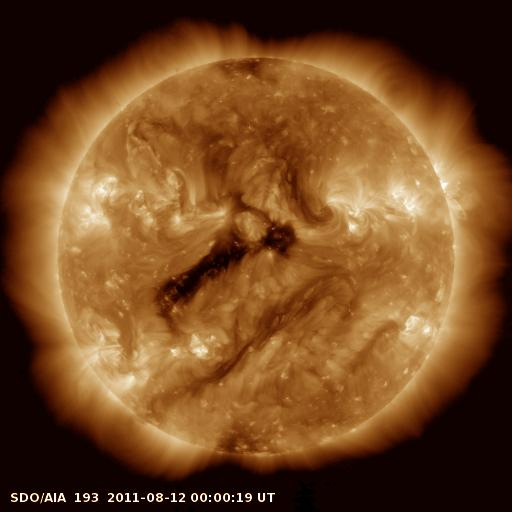coronal_hole: (159, 233, 253, 306), (261, 221, 300, 258)
